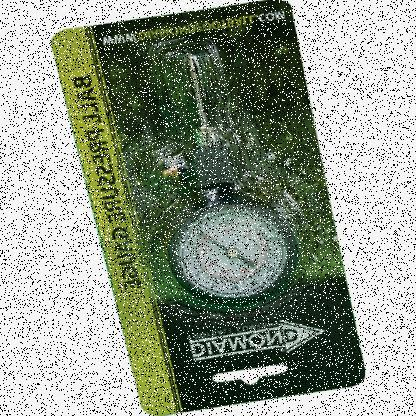needle: (198, 231, 243, 261)
